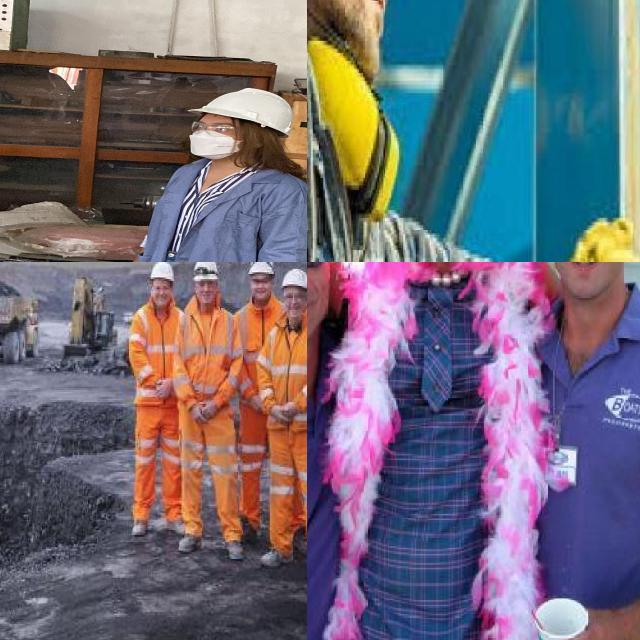face_mask: (187, 120, 243, 158)
face_nomask: (318, 0, 386, 80), (282, 289, 307, 317), (248, 276, 272, 299), (196, 278, 217, 302), (149, 283, 172, 304)
glasses: (188, 118, 241, 138)
hand_noglove: (546, 605, 621, 640), (150, 374, 176, 404), (198, 396, 222, 420), (268, 404, 292, 427), (187, 400, 206, 424)
head_helmet: (183, 86, 294, 135), (278, 266, 307, 290), (146, 262, 177, 282), (192, 262, 220, 281), (247, 262, 276, 278)
person: (317, 262, 542, 640), (502, 262, 640, 640), (108, 81, 307, 262), (175, 262, 249, 566), (128, 262, 195, 538), (255, 264, 307, 587)
shoes: (255, 547, 296, 571), (222, 534, 250, 566), (175, 530, 206, 554), (126, 514, 153, 538)
